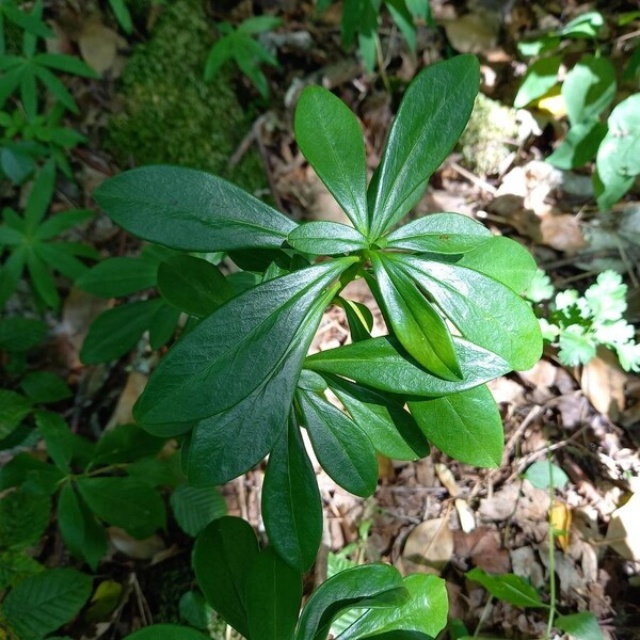obstacle: (98, 77, 519, 545)
